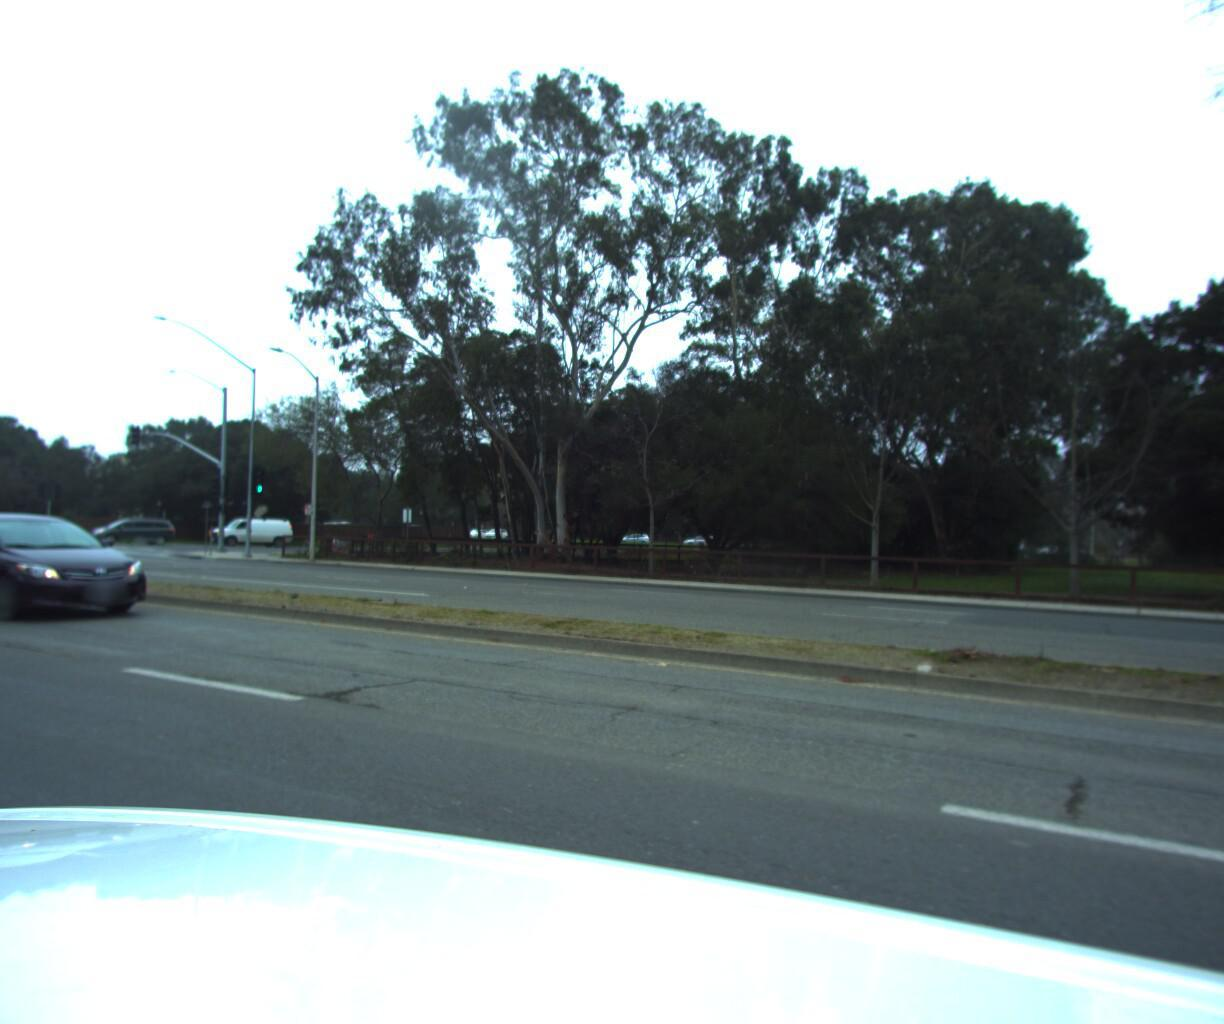car: (0, 505, 169, 630), (202, 509, 296, 544), (80, 513, 178, 544)
